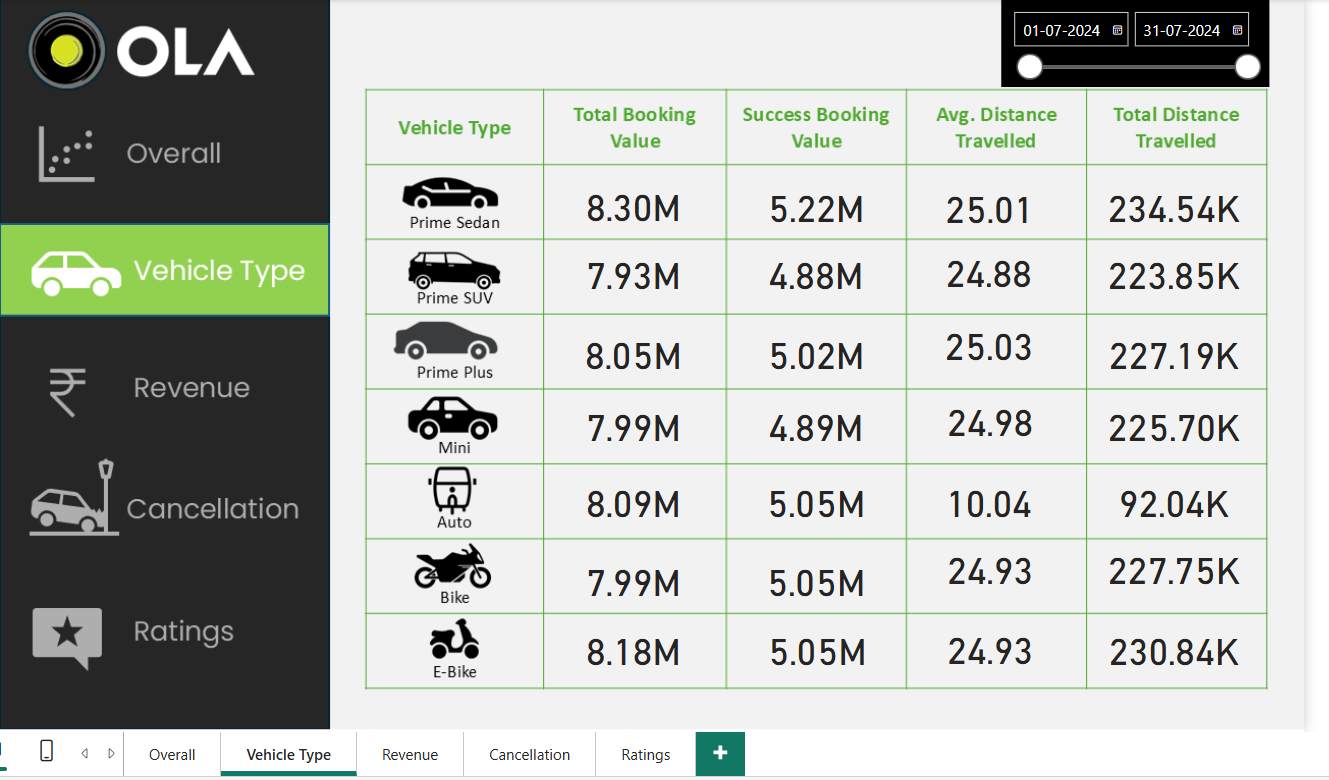

What the dashboard file says about the page in this screenshot:
{"tool":"powerbi","page":{"name":"Vehicle Type","canvas":[1280,720],"ordinal":1},"visuals":[{"type":"actionButton","box":[0,222.3,322.5,91.9],"z":0},{"type":"actionButton","box":[0,109.8,322.5,91.9],"z":1000},{"type":"actionButton","box":[0,338.9,322.5,91.9],"z":2000},{"type":"actionButton","box":[0,446,322.5,91.9],"z":3000},{"type":"actionButton","box":[0,579.1,322.5,91.9],"z":4000},{"type":"card","fields":{"Values":["Sum(July (2).Booking_Value)"]},"box":[550.3,168.8,144.1,65.9],"z":5000},{"type":"card","fields":{"Values":["Sum(July (2).Booking_Value)"]},"box":[550.3,236,144.1,65.9],"z":6000},{"type":"card","fields":{"Values":["Sum(July (2).Booking_Value)"]},"box":[550.3,314.2,144.1,65.9],"z":7000},{"type":"card","fields":{"Values":["Sum(July (2).Booking_Value)"]},"box":[550.3,385.6,144.1,65.9],"z":8000},{"type":"card","fields":{"Values":["Sum(July (2).Booking_Value)"]},"box":[550.3,459.7,144.1,65.9],"z":9000},{"type":"card","fields":{"Values":["Sum(July (2).Booking_Value)"]},"box":[550.3,537.9,144.1,65.9],"z":10000},{"type":"card","fields":{"Values":["Sum(July (2).Booking_Value)"]},"box":[550.3,605.1,144.1,65.9],"z":11000},{"type":"card","fields":{"Values":["Sum(July (2).Booking_Value)"]},"box":[728.6,170.2,144.1,65.9],"z":12000},{"type":"card","fields":{"Values":["Sum(July (2).Booking_Value)"]},"box":[728.6,236,144.1,65.9],"z":13000},{"type":"card","fields":{"Values":["Sum(July (2).Booking_Value)"]},"box":[728.6,314.2,144.1,65.9],"z":14000},{"type":"card","fields":{"Values":["Sum(July (2).Booking_Value)"]},"box":[728.6,385.6,144.1,65.9],"z":15000},{"type":"card","fields":{"Values":["Sum(July (2).Booking_Value)"]},"box":[728.6,459.7,144.1,65.9],"z":16000},{"type":"card","fields":{"Values":["Sum(July (2).Booking_Value)"]},"box":[728.6,537.9,144.1,65.9],"z":17000},{"type":"card","fields":{"Values":["Sum(July (2).Booking_Value)"]},"box":[730,605.1,144.1,65.9],"z":18000},{"type":"card","fields":{"Values":["Avg(July (2).Ride_Distance)"]},"box":[899.4,170.6,143.6,66.3],"z":19000},{"type":"card","fields":{"Values":["Avg(July (2).Ride_Distance)"]},"box":[898.8,234.6,142.7,65.9],"z":20000},{"type":"card","fields":{"Values":["Avg(July (2).Ride_Distance)"]},"box":[898.8,306,142.7,65.9],"z":21000},{"type":"card","fields":{"Values":["Avg(July (2).Ride_Distance)"]},"box":[900.2,380.1,142.7,65.9],"z":22000},{"type":"card","fields":{"Values":["Avg(July (2).Ride_Distance)"]},"box":[898.8,459.7,142.7,65.9],"z":23000},{"type":"card","fields":{"Values":["Avg(July (2).Ride_Distance)"]},"box":[900.2,525.6,142.7,65.9],"z":24000},{"type":"card","fields":{"Values":["Avg(July (2).Ride_Distance)"]},"box":[900.2,603.8,142.7,65.9],"z":25000},{"type":"card","fields":{"Values":["Sum(July (2).Ride_Distance)"]},"box":[1081.3,170.2,142.7,65.9],"z":26000},{"type":"card","fields":{"Values":["Sum(July (2).Ride_Distance)"]},"box":[1081.3,236,142.7,65.9],"z":27000},{"type":"card","fields":{"Values":["Sum(July (2).Ride_Distance)"]},"box":[1081.3,314.2,142.7,65.9],"z":28000},{"type":"card","fields":{"Values":["Sum(July (2).Ride_Distance)"]},"box":[1081.3,385.6,142.7,65.9],"z":29000},{"type":"card","fields":{"Values":["Sum(July (2).Ride_Distance)"]},"box":[1081.3,459.7,142.7,65.9],"z":30000},{"type":"card","fields":{"Values":["Sum(July (2).Ride_Distance)"]},"box":[1081.3,525.6,142.7,65.9],"z":31000},{"type":"card","fields":{"Values":["Sum(July (2).Ride_Distance)"]},"box":[1081.3,605.1,142.7,65.9],"z":32000},{"type":"slicer","title":"Date","fields":{"Values":["July (2).Date"]},"box":[982.5,0,263.5,86.4],"z":33000}]}

Visuals, with their boxes on the page's 1280x720 design canvas (x1, y1, x2, y2). These are canvas units, not pixel positions in the 1329x780 screenshot, which may show the page scaled, cropped or inside an application window:
actionButton: [left=0, top=222, right=322, bottom=314]
actionButton: [left=0, top=110, right=322, bottom=202]
actionButton: [left=0, top=339, right=322, bottom=431]
actionButton: [left=0, top=446, right=322, bottom=538]
actionButton: [left=0, top=579, right=322, bottom=671]
card - Sum(July (2).Booking_Value): [left=550, top=169, right=694, bottom=235]
card - Sum(July (2).Booking_Value): [left=550, top=236, right=694, bottom=302]
card - Sum(July (2).Booking_Value): [left=550, top=314, right=694, bottom=380]
card - Sum(July (2).Booking_Value): [left=550, top=386, right=694, bottom=452]
card - Sum(July (2).Booking_Value): [left=550, top=460, right=694, bottom=526]
card - Sum(July (2).Booking_Value): [left=550, top=538, right=694, bottom=604]
card - Sum(July (2).Booking_Value): [left=550, top=605, right=694, bottom=671]
card - Sum(July (2).Booking_Value): [left=729, top=170, right=873, bottom=236]
card - Sum(July (2).Booking_Value): [left=729, top=236, right=873, bottom=302]
card - Sum(July (2).Booking_Value): [left=729, top=314, right=873, bottom=380]
card - Sum(July (2).Booking_Value): [left=729, top=386, right=873, bottom=452]
card - Sum(July (2).Booking_Value): [left=729, top=460, right=873, bottom=526]
card - Sum(July (2).Booking_Value): [left=729, top=538, right=873, bottom=604]
card - Sum(July (2).Booking_Value): [left=730, top=605, right=874, bottom=671]
card - Avg(July (2).Ride_Distance): [left=899, top=171, right=1043, bottom=237]
card - Avg(July (2).Ride_Distance): [left=899, top=235, right=1042, bottom=300]
card - Avg(July (2).Ride_Distance): [left=899, top=306, right=1042, bottom=372]
card - Avg(July (2).Ride_Distance): [left=900, top=380, right=1043, bottom=446]
card - Avg(July (2).Ride_Distance): [left=899, top=460, right=1042, bottom=526]
card - Avg(July (2).Ride_Distance): [left=900, top=526, right=1043, bottom=592]
card - Avg(July (2).Ride_Distance): [left=900, top=604, right=1043, bottom=670]
card - Sum(July (2).Ride_Distance): [left=1081, top=170, right=1224, bottom=236]
card - Sum(July (2).Ride_Distance): [left=1081, top=236, right=1224, bottom=302]
card - Sum(July (2).Ride_Distance): [left=1081, top=314, right=1224, bottom=380]
card - Sum(July (2).Ride_Distance): [left=1081, top=386, right=1224, bottom=452]
card - Sum(July (2).Ride_Distance): [left=1081, top=460, right=1224, bottom=526]
card - Sum(July (2).Ride_Distance): [left=1081, top=526, right=1224, bottom=592]
card - Sum(July (2).Ride_Distance): [left=1081, top=605, right=1224, bottom=671]
"Date" slicer: [left=982, top=0, right=1246, bottom=86]
